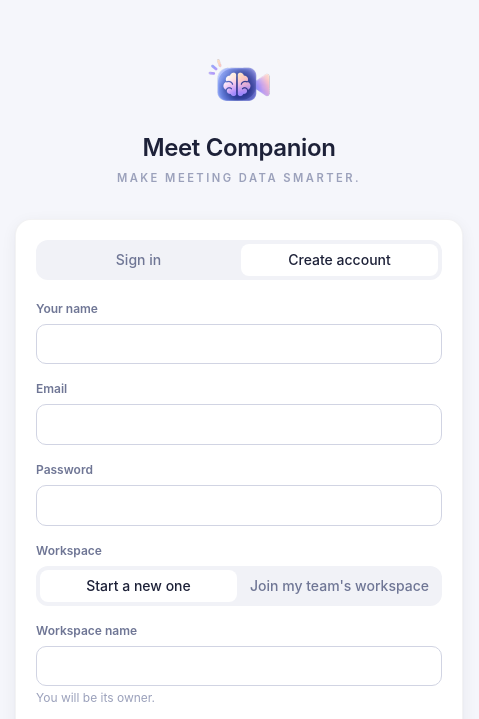
Test case: creating an account › is an explicit choice between starting a workspace and joining one
Check: the field labelled "Workspace name" is shown, box [36,646,442,686]
Check: the field labelled "Join code" is not shown
Type "Ada" into the field labelled "Your name" at (239, 344), box [36,324,442,364]
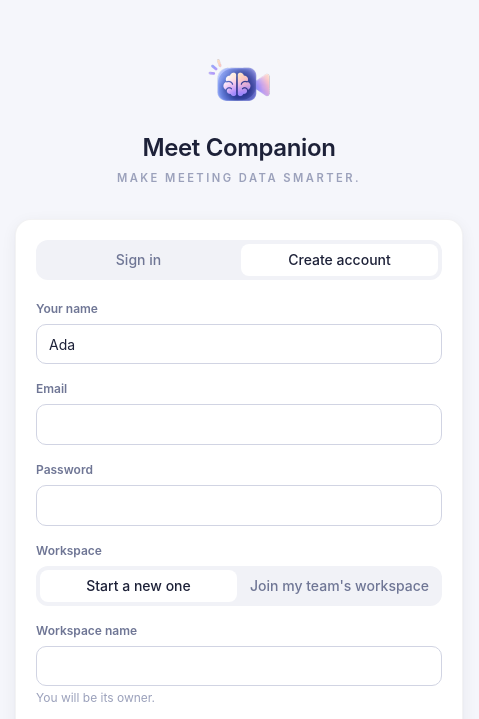
Type "ada@x.test" into the field labelled "Email" at (239, 425), box [36,404,442,445]
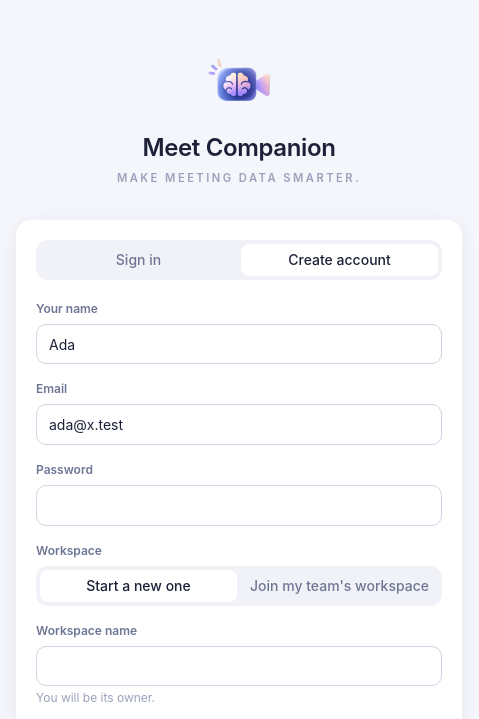
Type "correct-horse-battery" into the password field labelled "Password" at (239, 505), box [36,485,442,526]
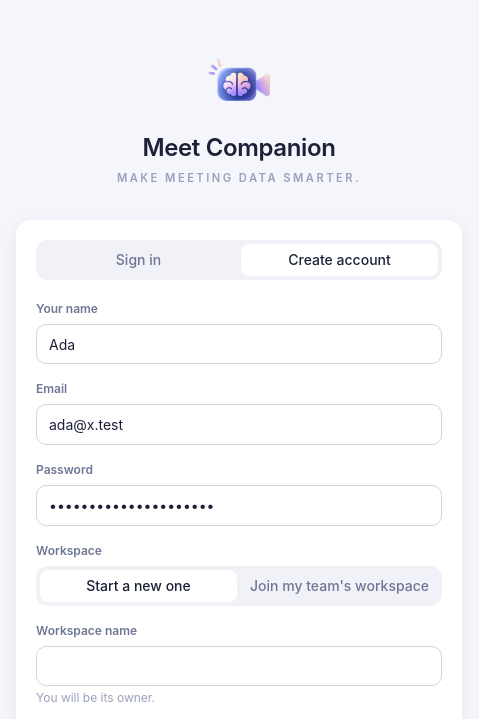
Type "Acme" into the field labelled "Workspace name" at (239, 666), box [36,646,442,686]
(page scrolled)
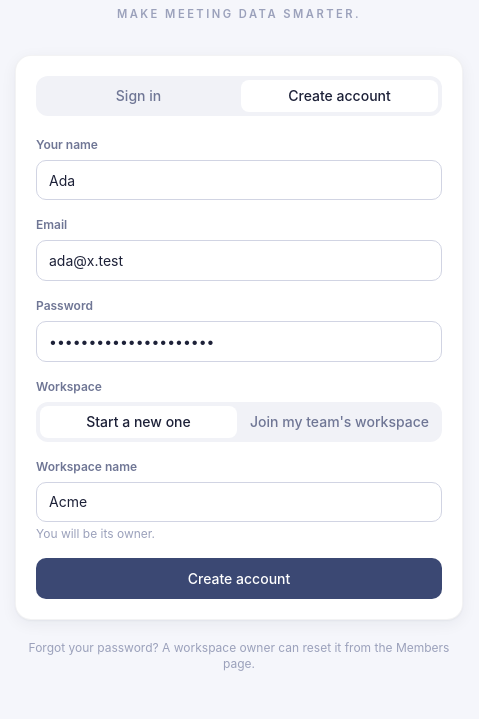
Click the button "Create account" below "You will be its owner." at (239, 578), box [36,558,442,599]
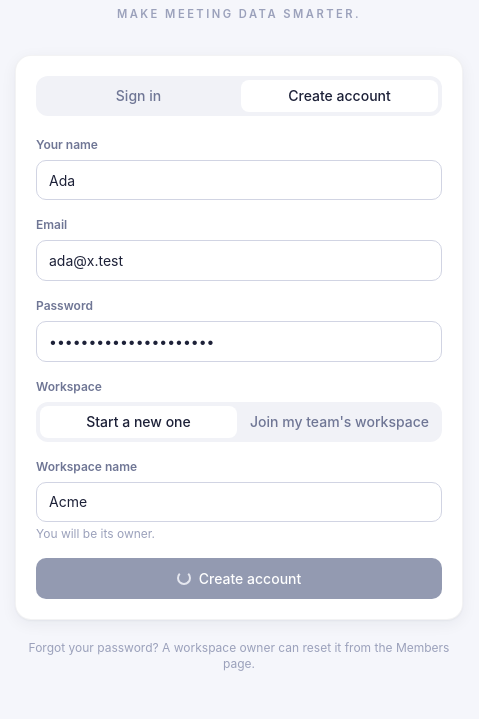
Click the radio button labelled "Join my team's workspace" at (340, 422), box [241,406,438,438]
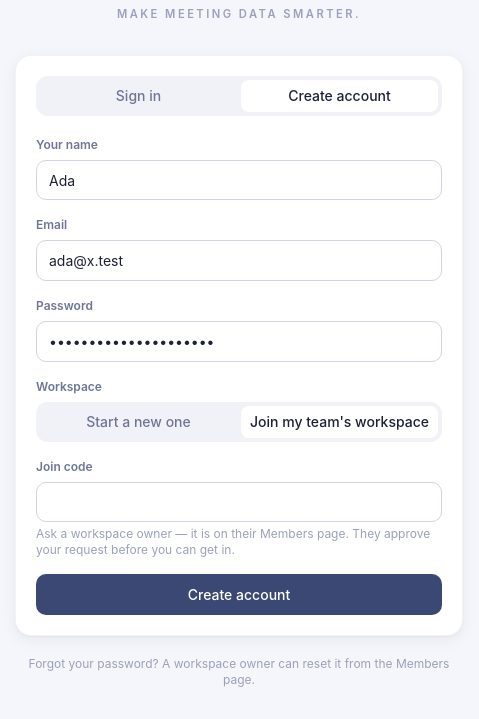
Check: the field labelled "Join code" is shown, box [36,482,442,522]
Check: the label labelled "Workspace name" is gone
